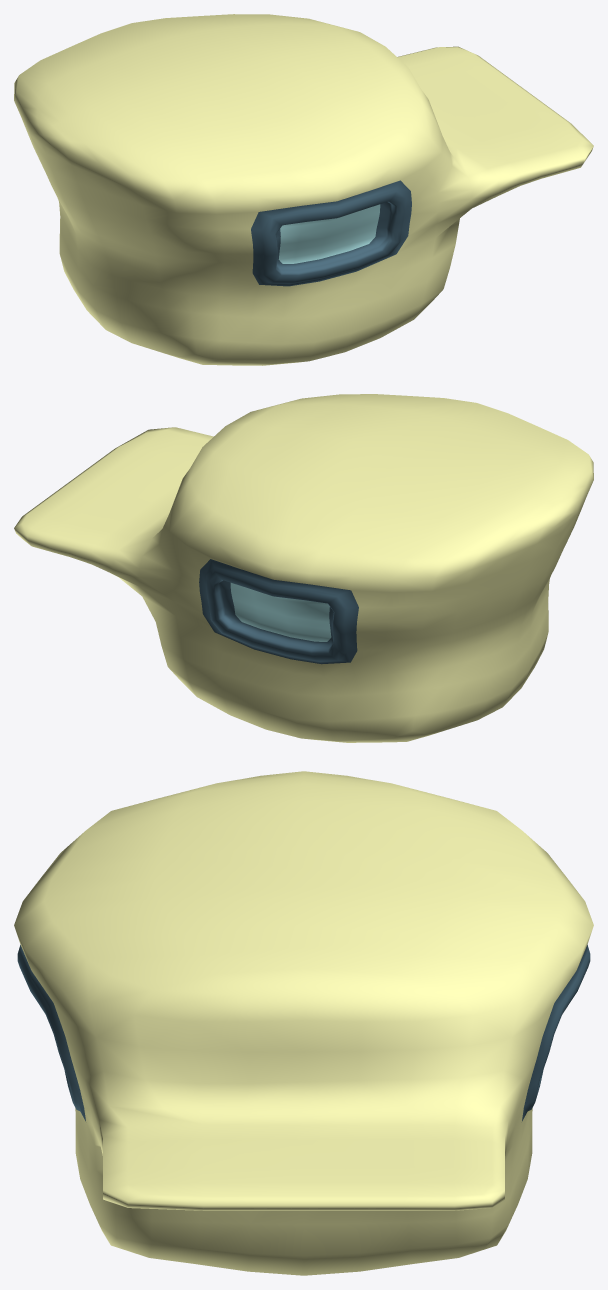
File: BaseBottom.fbx
3 views of the same model, one above another, from view 1: azimuth 30°, elevation 25°; view 2: azimuth 150°, elevation 25°; view 3: azimuth 270°, elevation 25° (orthographic). The views are drawn at different scales.
Visible parts, largest first — view 1: Base_Bottom; view 2: Base_Bottom; view 3: Base_Bottom.
Boxes of the visible parts, x1,y1,x2,y2 form: Base_Bottom: (14, 14, 593, 365); Base_Bottom: (14, 394, 593, 742); Base_Bottom: (14, 771, 593, 1275).
Bounding box in the file's own units: 2184 × 1102 × 1663.
